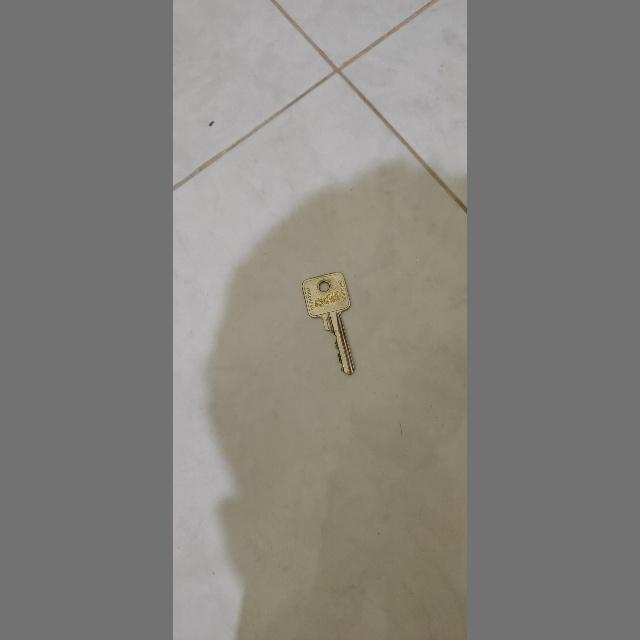Keys: (293, 262, 363, 391)
